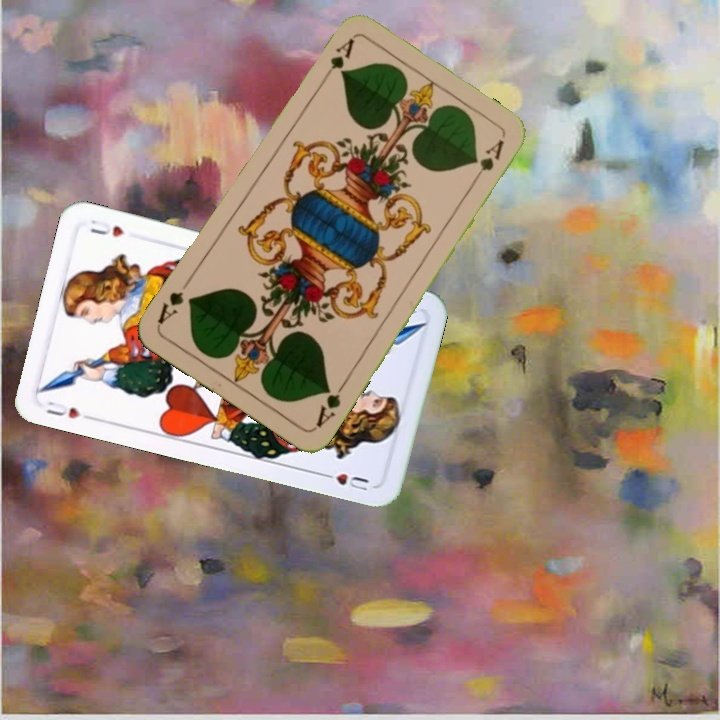GA: (317, 33, 357, 86), (311, 377, 349, 431)
HU: (42, 397, 84, 422)
